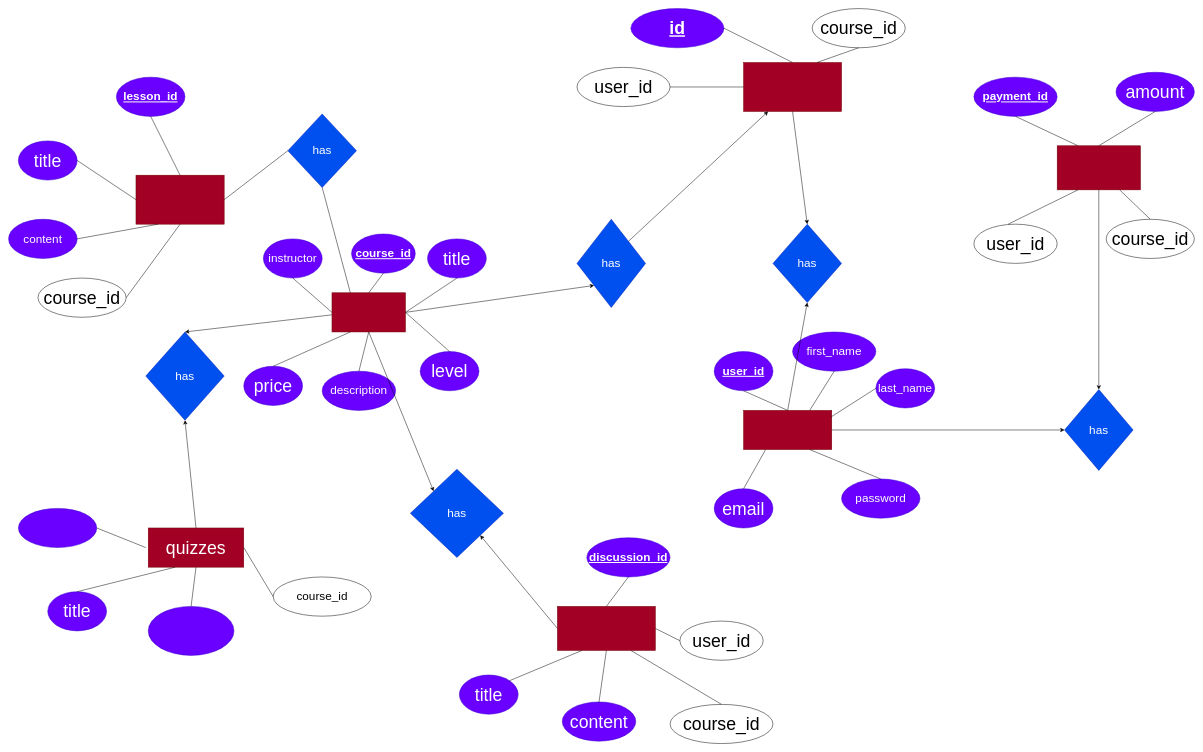
The diagram is 1203 pixels wide and 752 high, and some of its shapes have lost their labels. Here are the shapes that lost their labels. From the top down, the centre of each, then its label:
At (x=792, y=86): "enrollments".
At (x=1098, y=167): "payments".
At (x=179, y=199): "lessons".
At (x=368, y=312): "courses".
At (x=787, y=430): "users".
At (x=57, y=528): "quiz_id".
At (x=191, y=630): "quiz".
At (x=606, y=628): "discussions".
